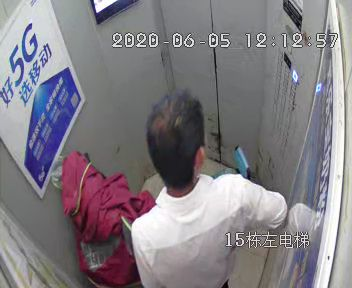Electric-bicycle: (58, 143, 254, 288)
